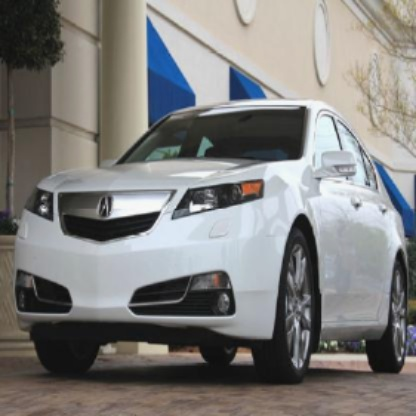Vehicle: (7, 90, 412, 398)
